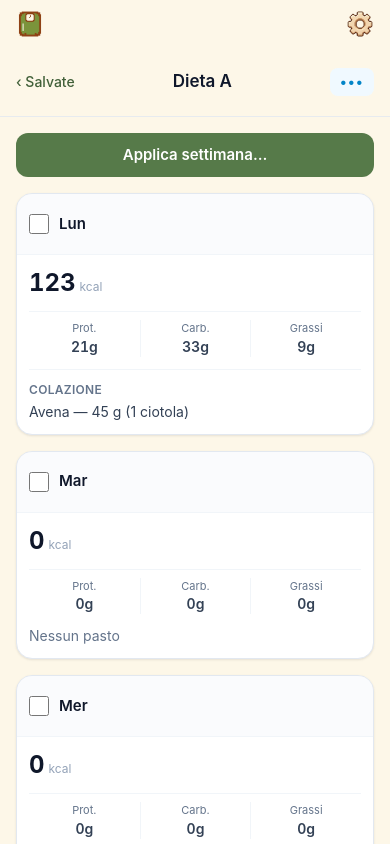
SavedWeekDetailPage › opens the apply dialog for the whole week
The width and height of the screenshot is (390, 844).
Click the button "Applica settimana…" at (195, 155), box [16,133,374,177]
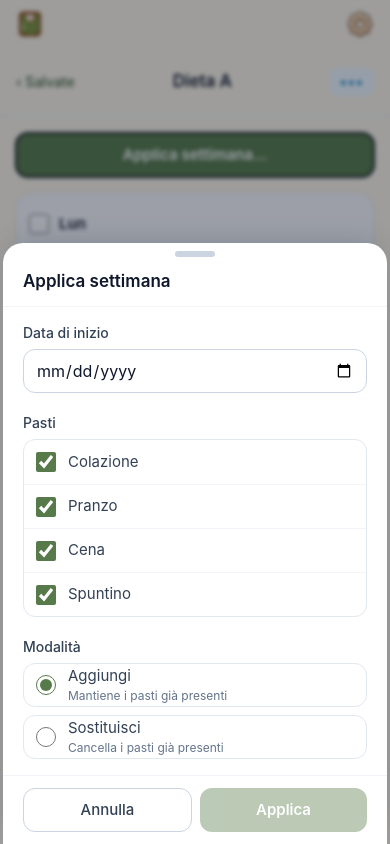
Now the dialog "Applica settimana" is shown
